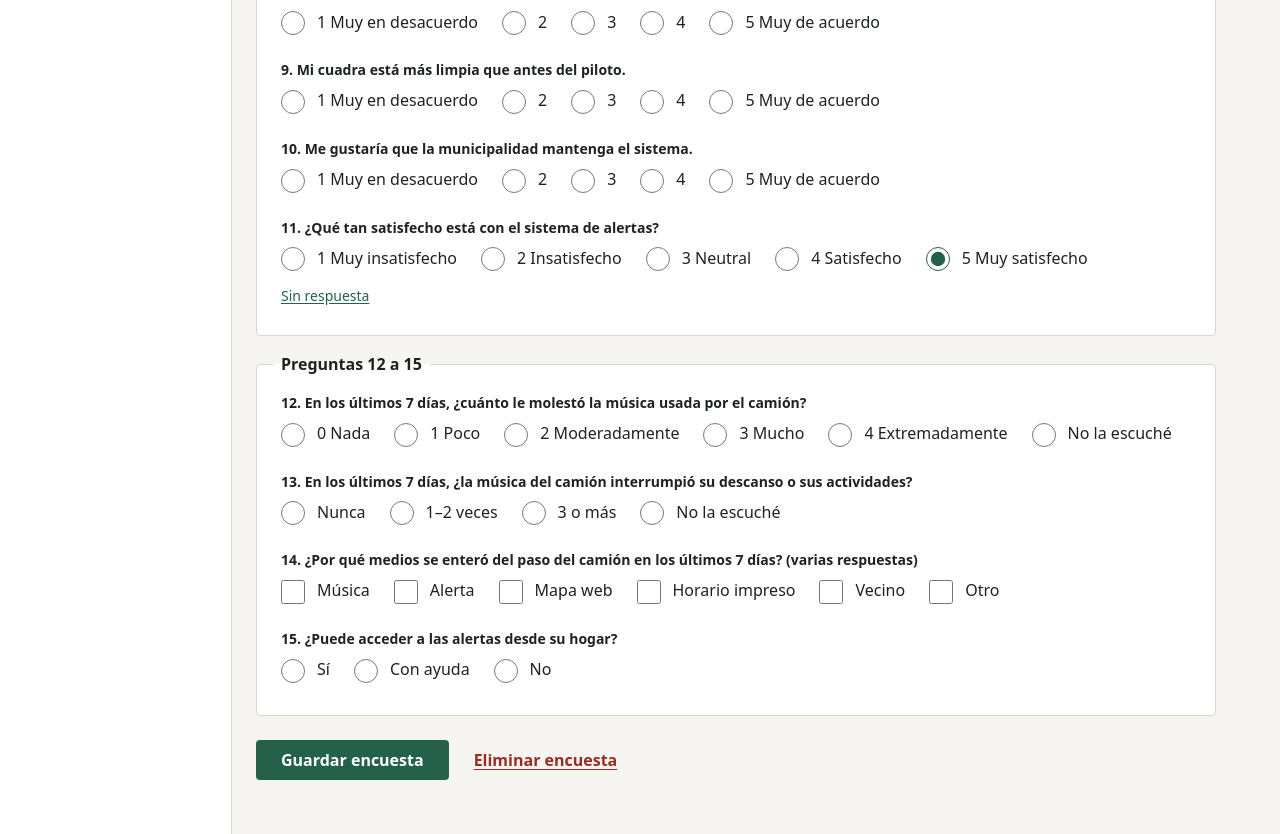
Test case: SurveyEditorPage › falls back to a general message for a problem the panel does not know
(page scrolled)
Click the button "Guardar encuesta" at (352, 760), box [256,740,449,780]
(page scrolled)
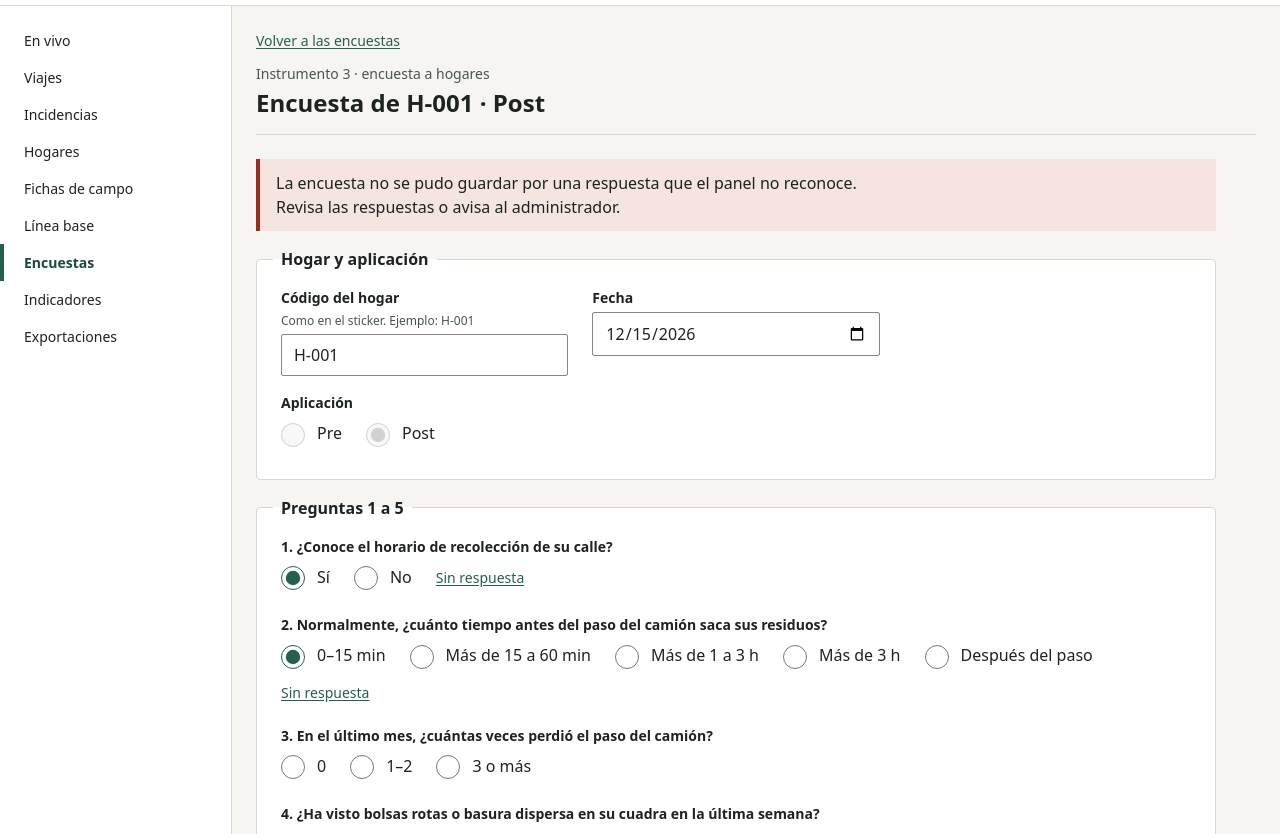
expect the text "La encuesta no se pudo guardar por una respuesta que el panel no reconoce" is shown: met, box [276,172,857,218]
